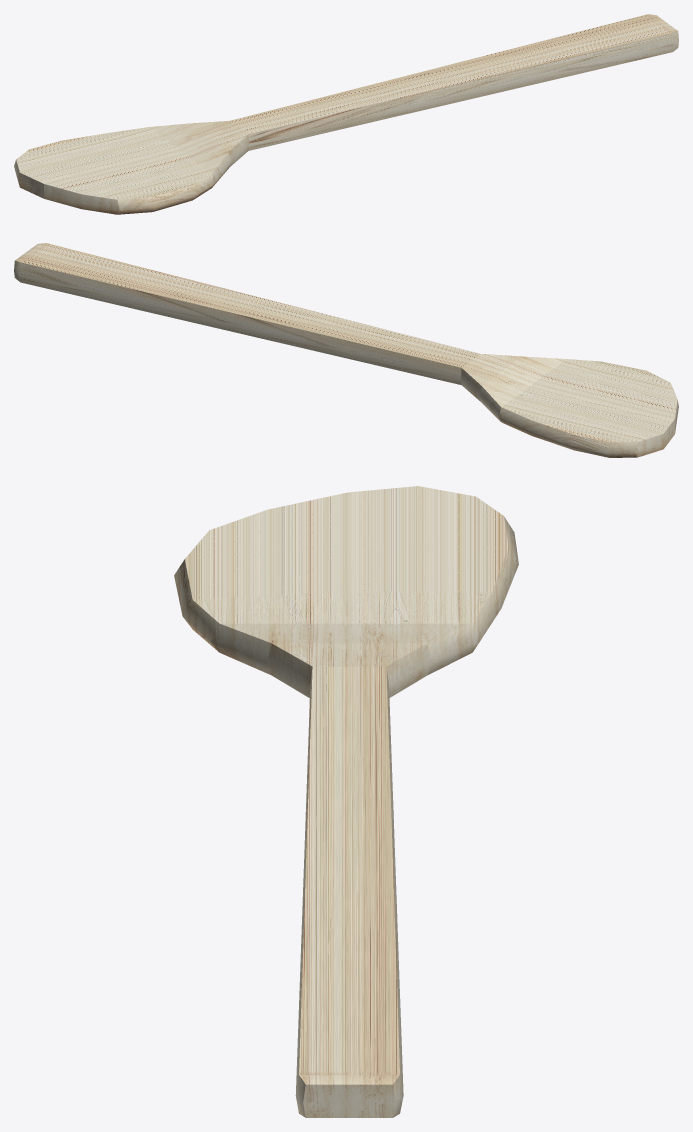
File: hera.fbx
3 renders of one model, top to bottom at view 1: azimuth 30°, elevation 25°; view 2: azimuth 150°, elevation 25°; view 3: azimuth 270°, elevation 25°, orthographic. The views are drawn at different scales.
Visible parts, largest first — view 1: pCube1; view 2: pCube1; view 3: pCube1.
Part boxes in pixels (left/top/right/bottom): pCube1: left=14, top=14, right=678, bottom=214; pCube1: left=14, top=243, right=678, bottom=457; pCube1: left=174, top=486, right=518, bottom=1117.
Bounding box in the file's own units: 35.09 × 1.31 × 8.31.
1 material, 1 textured.
